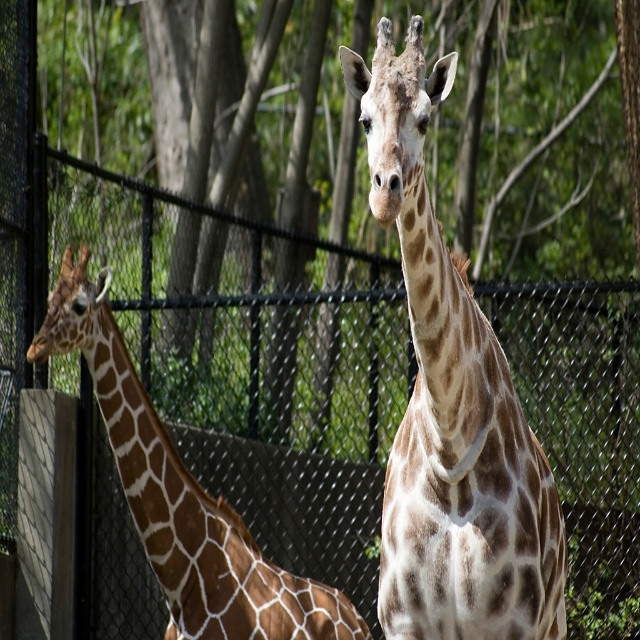Giraffe: (339, 15, 569, 638), (25, 237, 375, 639)
